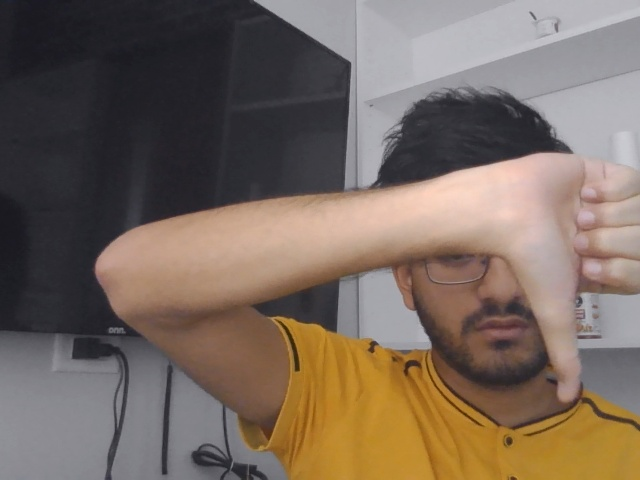ThumbsDown: (510, 152, 640, 403)
